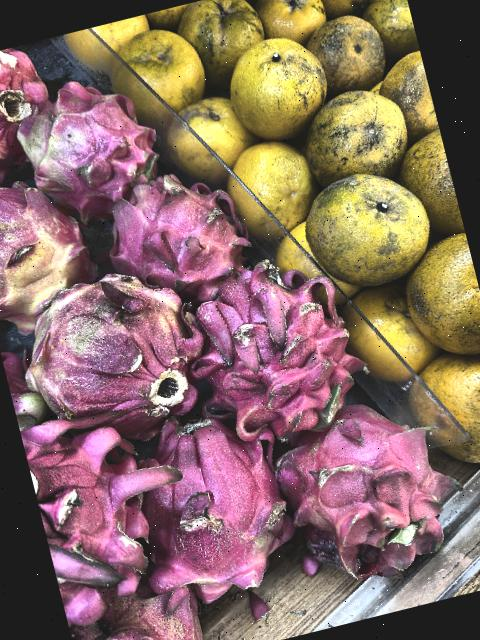buah-naga-belum-matang: (2, 248, 214, 441), (0, 65, 170, 213), (0, 148, 98, 316), (63, 570, 212, 640)
buah-naga-matang: (262, 389, 479, 594), (179, 244, 382, 452), (15, 379, 186, 615), (125, 397, 300, 603), (93, 151, 266, 303), (0, 42, 61, 176)
